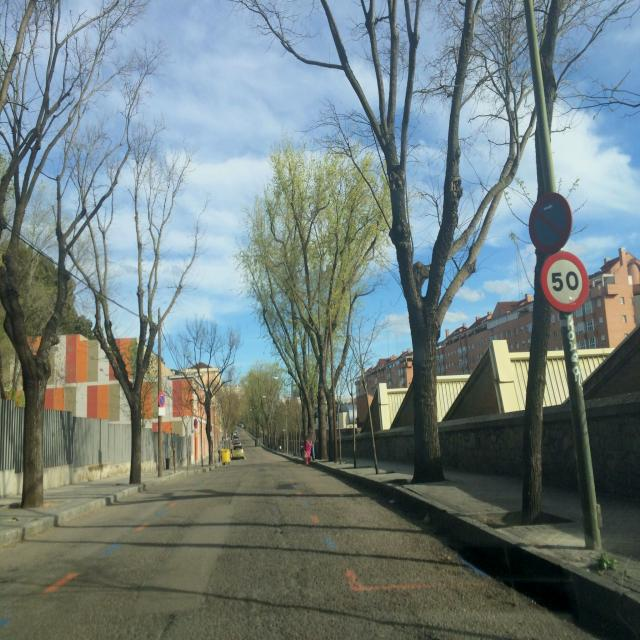car: (231, 445, 245, 460)
